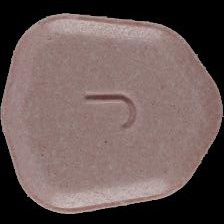50436-0777: (0, 0, 224, 224)
